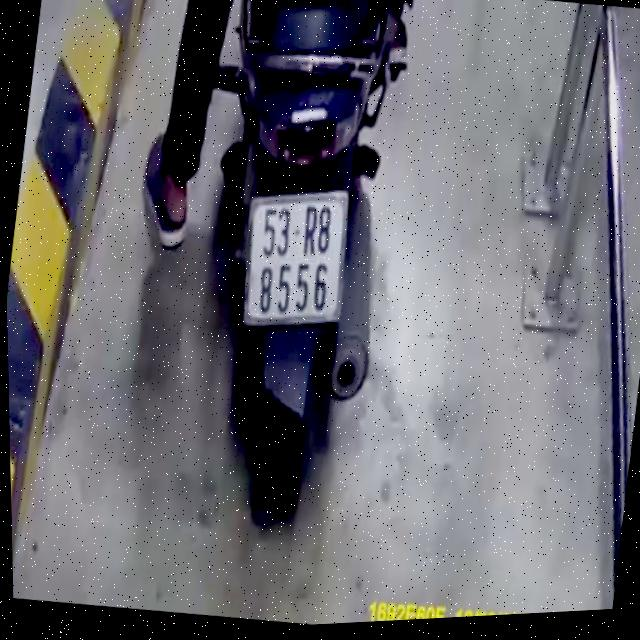motorcycle: (151, 0, 442, 537)
plate: (231, 176, 362, 339)
